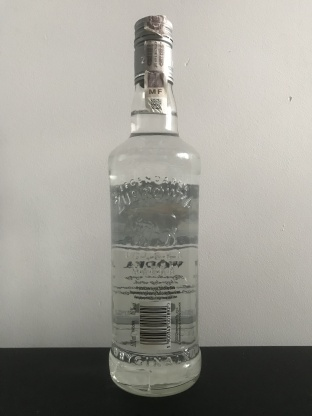nakretka: (131, 12, 175, 86)
